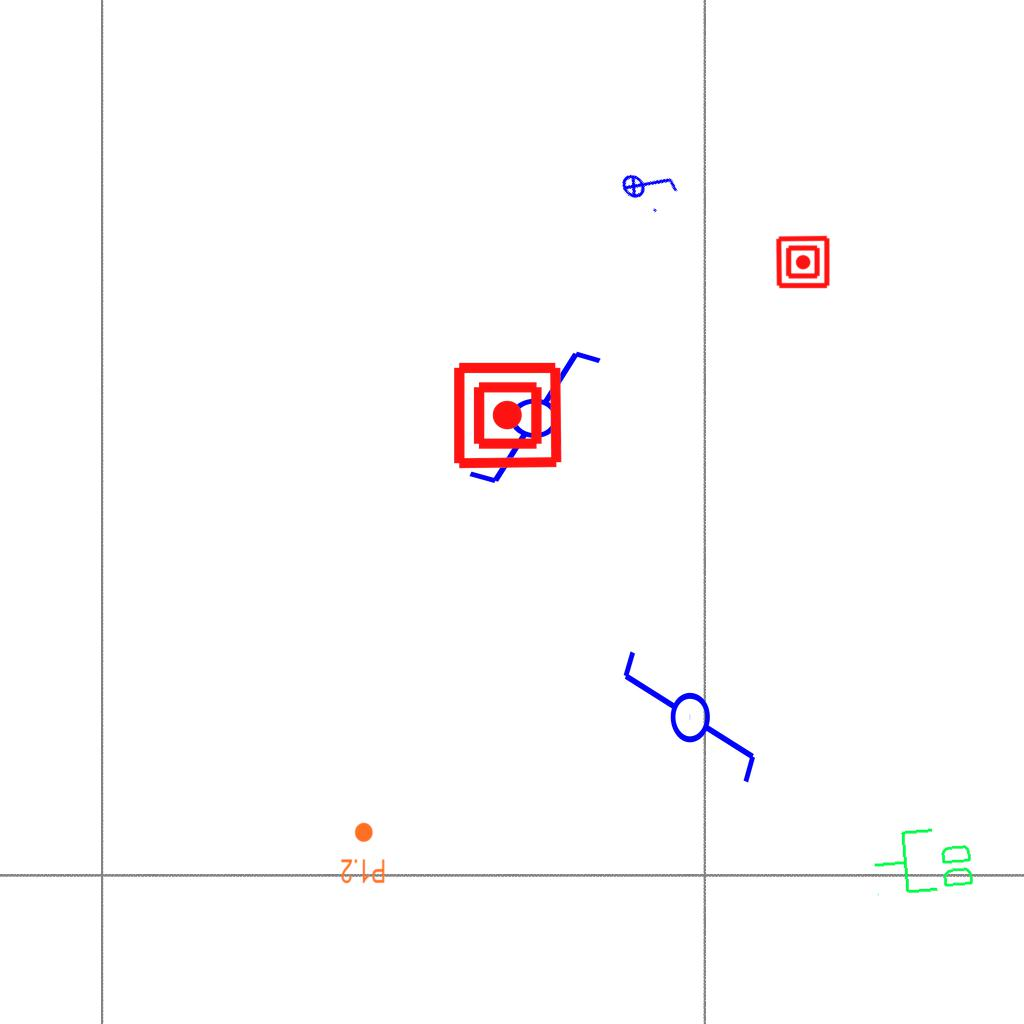Ausschalter_beleuchtet: (612, 147, 686, 221)
Datenanschluss_zweifach: (869, 822, 978, 901)
Downlight_LED_Einbauleuchten_Flur: (340, 821, 386, 885)
NAM-Nichtautomatischer_Melder: (451, 359, 564, 472), (775, 234, 831, 290)
Wechselschalter: (616, 647, 760, 804), (448, 344, 605, 488)
